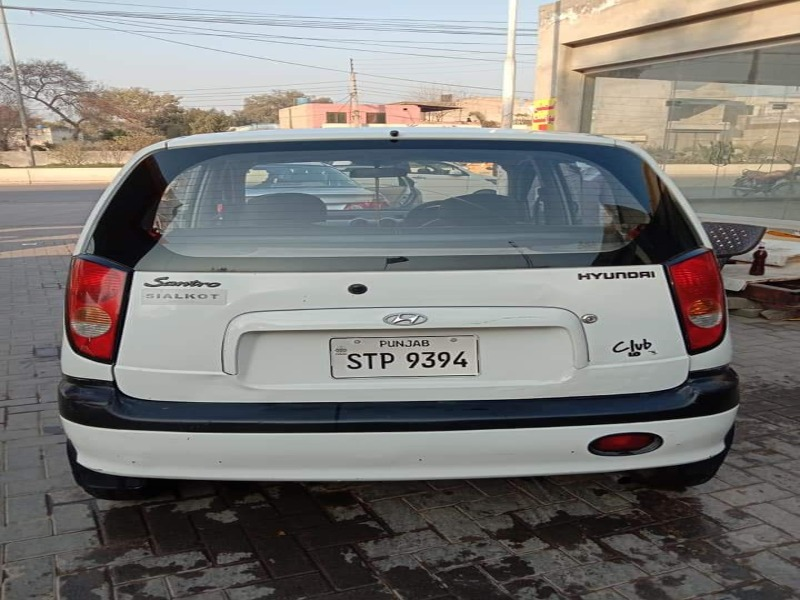License Plate: (327, 332, 484, 381)
